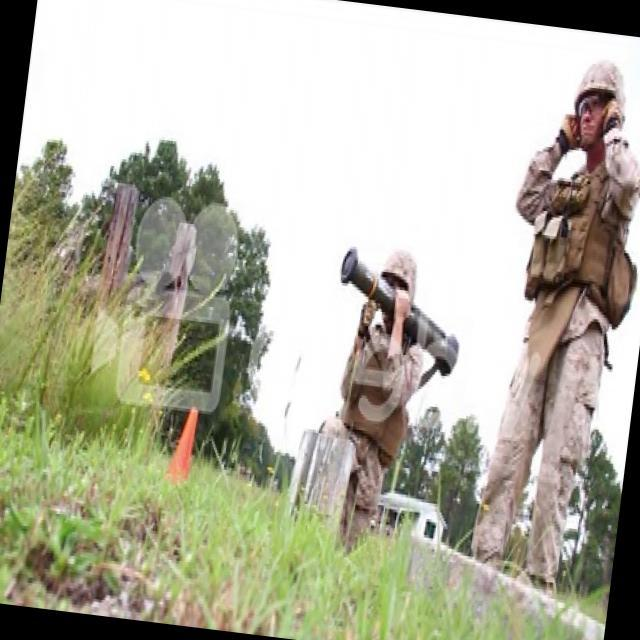rocket: (329, 247, 470, 376)
